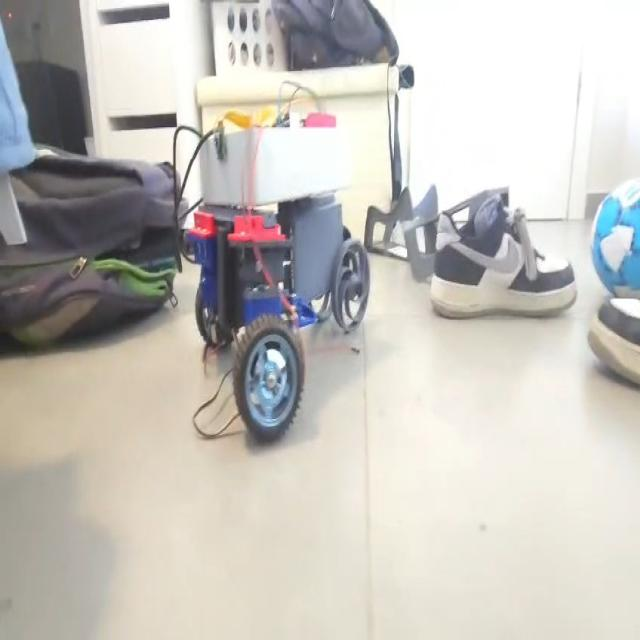Robot: (183, 109, 370, 444)
